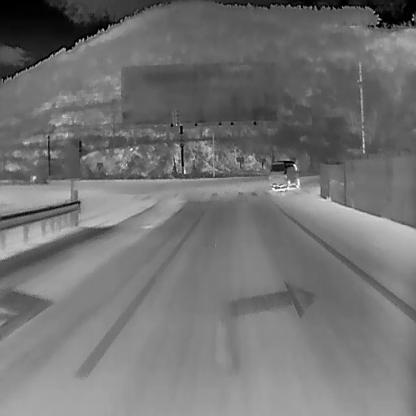car: (268, 159, 300, 191)
